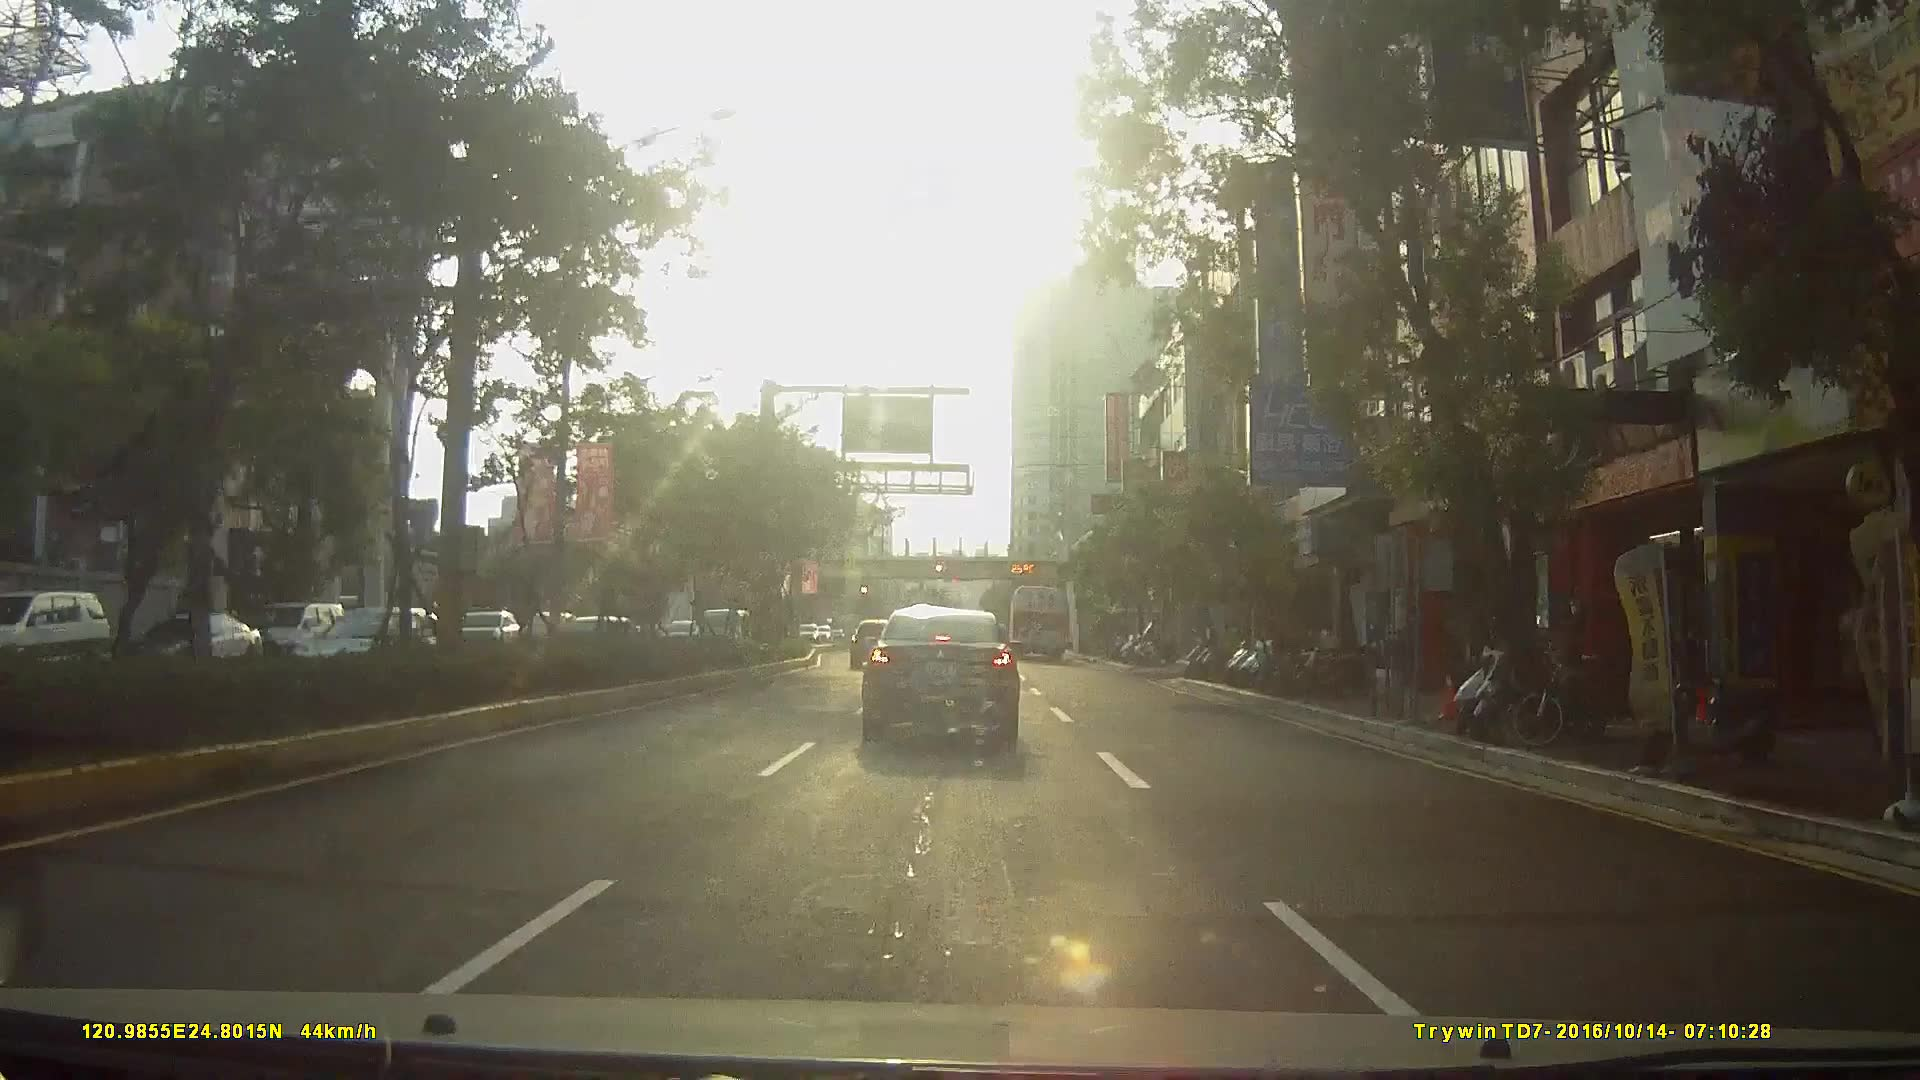vehicle: (858, 607, 1021, 744), (123, 613, 272, 682), (3, 588, 103, 676), (241, 599, 339, 665), (1006, 580, 1071, 659), (334, 604, 417, 662), (450, 608, 518, 650), (848, 613, 897, 665)
